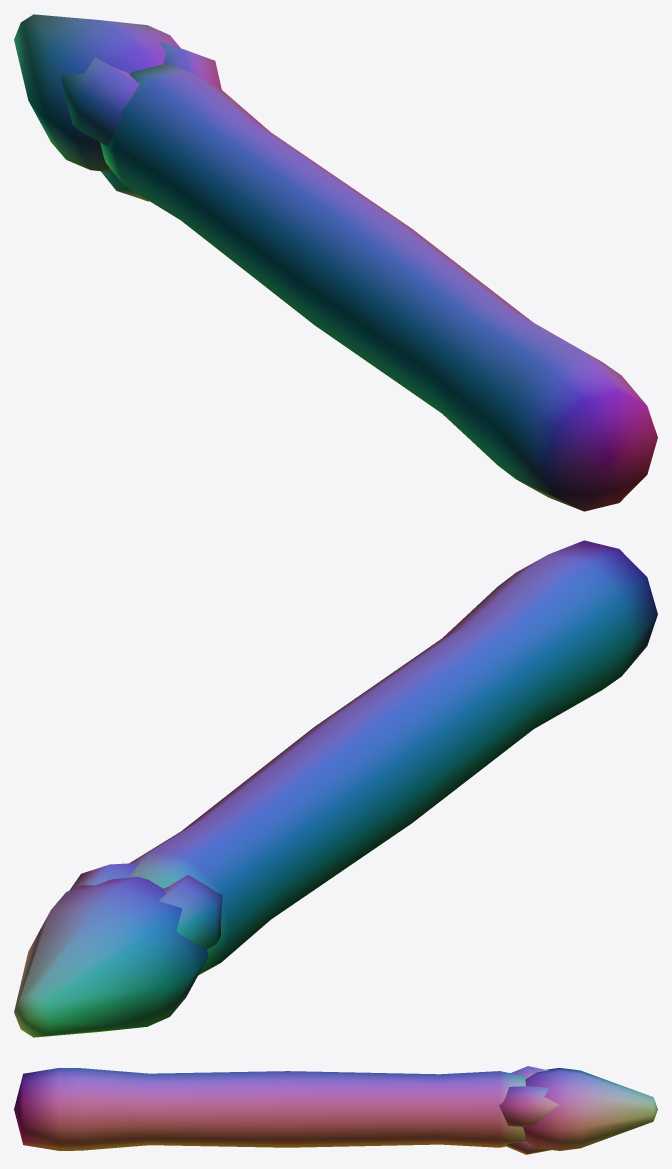
File: SM_Weapon_Wand.fbx
3 renders of one model, top to bottom at view 1: azimuth 30°, elevation 25°; view 2: azimuth 150°, elevation 25°; view 3: azimuth 270°, elevation 25°, orthographic. The views are drawn at different scales.
Visible parts, largest first — view 1: SM_Weapon_Wand; view 2: SM_Weapon_Wand; view 3: SM_Weapon_Wand.
Part boxes in pixels (box(x1,y1,x2,y2)): SM_Weapon_Wand: box(14, 14, 657, 511); SM_Weapon_Wand: box(14, 540, 657, 1037); SM_Weapon_Wand: box(14, 1066, 657, 1154).
Size of the model in its own units: 0.07 by 0.0662 by 0.4643.
